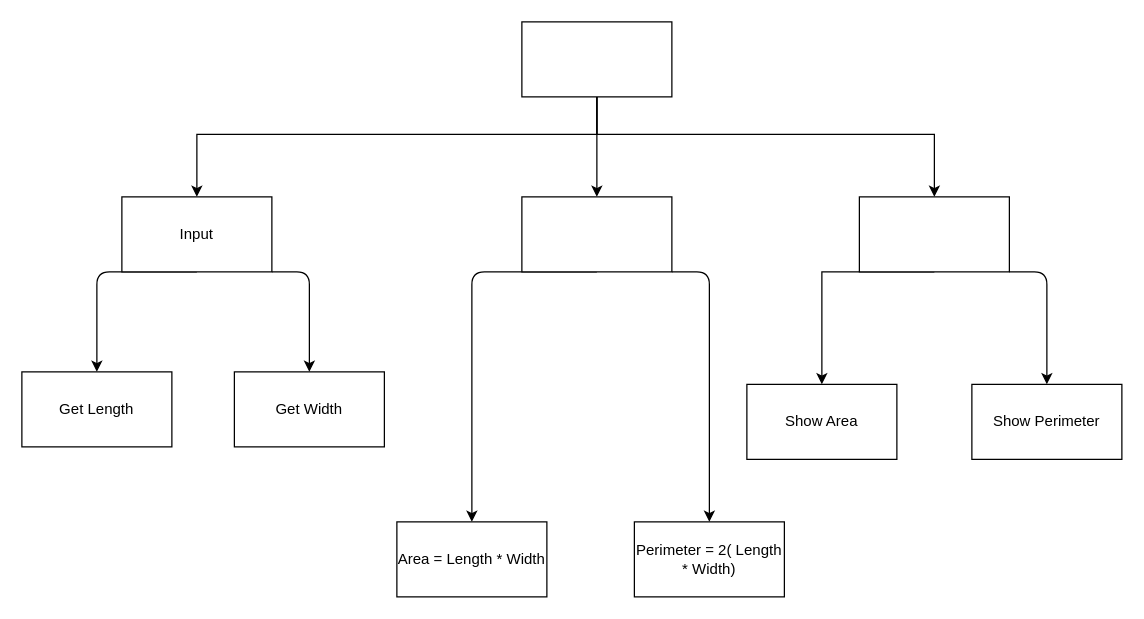
Image size: 1144x619. Some labels were removed from this diagram. The shapes that lost their labels are listed below. From the top down, each one's centre as x and y in pixels, then its label:
At (x=596, y=59): "Circumference Program".
At (x=596, y=234): "Process".
At (x=933, y=234): "Output".
